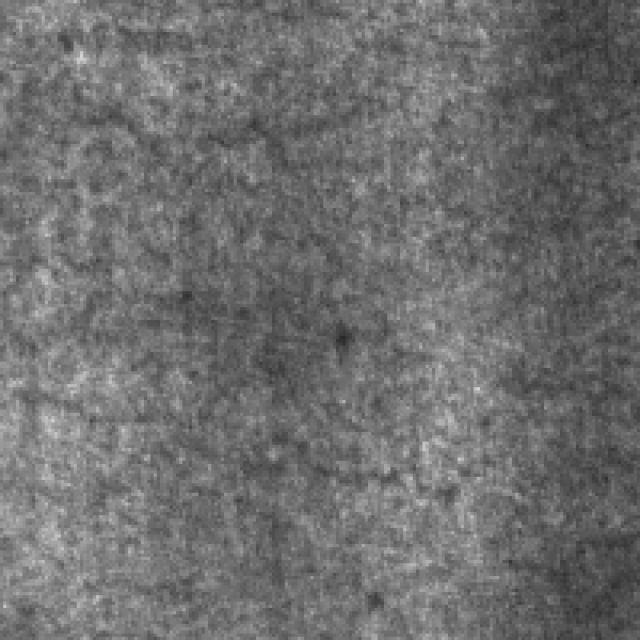crazing: (3, 381, 474, 509), (77, 0, 419, 173)
